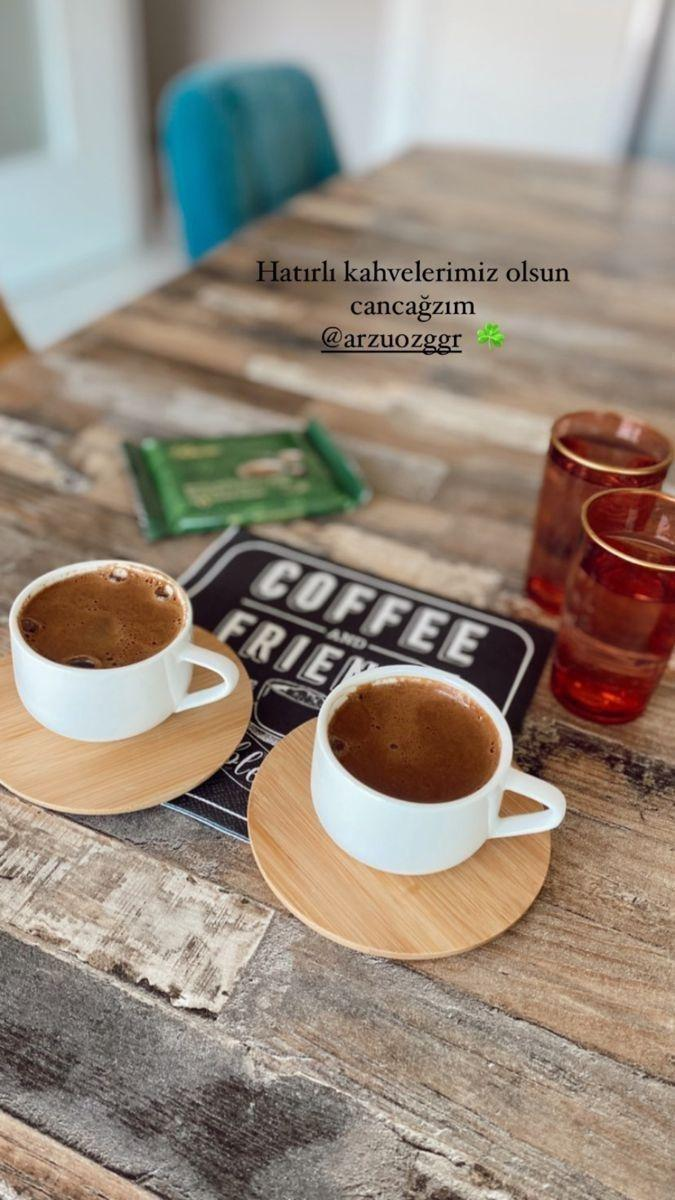cup-handle: (307, 662, 567, 878), (7, 558, 240, 745)
glass-normal: (522, 402, 674, 605), (549, 487, 673, 724)
